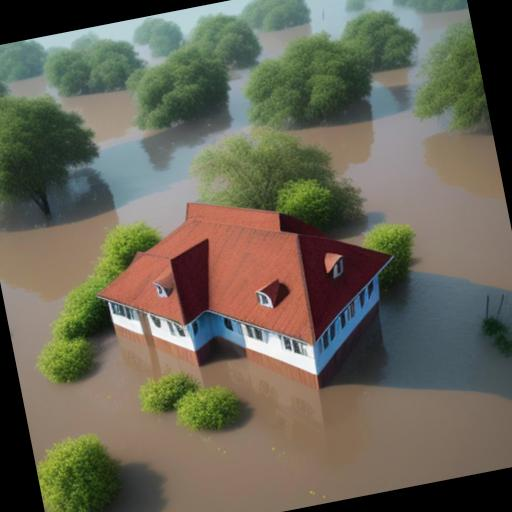flood: (0, 0, 512, 512), (34, 17, 145, 47), (153, 0, 250, 33)
house: (80, 164, 418, 430)
